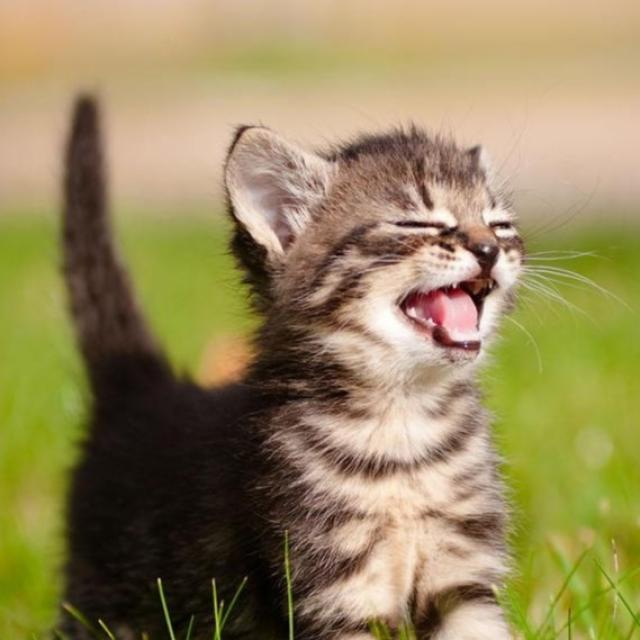Happy: (320, 156, 540, 377)
